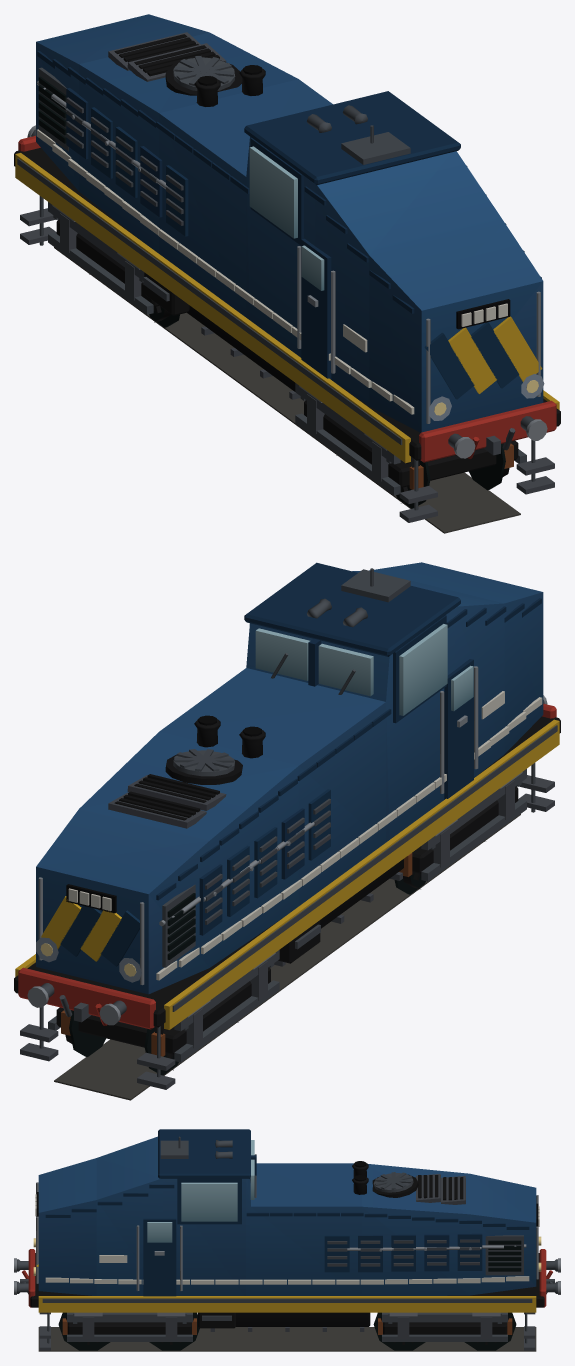
The model's file is diesel-locomotive.glb.
The picture shows the model from 3 angles, top to bottom: view 1: azimuth 30°, elevation 25°; view 2: azimuth 150°, elevation 25°; view 3: azimuth 270°, elevation 25°; orthographic projection. The views are drawn at different scales.
Visible parts, largest first — view 1: diesel_locomotive; view 2: diesel_locomotive; view 3: diesel_locomotive.
Part boxes in pixels (x1,y1,x2,y2): diesel_locomotive: (14, 14, 560, 533); diesel_locomotive: (14, 562, 560, 1100); diesel_locomotive: (14, 1129, 560, 1351).
Bounding box in the file's own units: 1.39 × 2.69 × 6.59.
